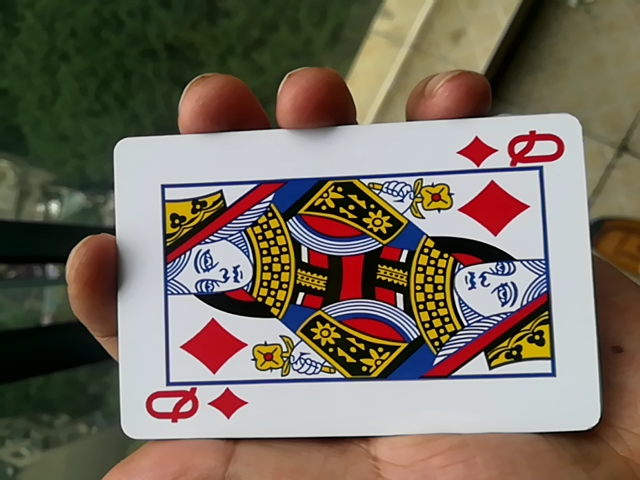fk q: (96, 116, 592, 448)
